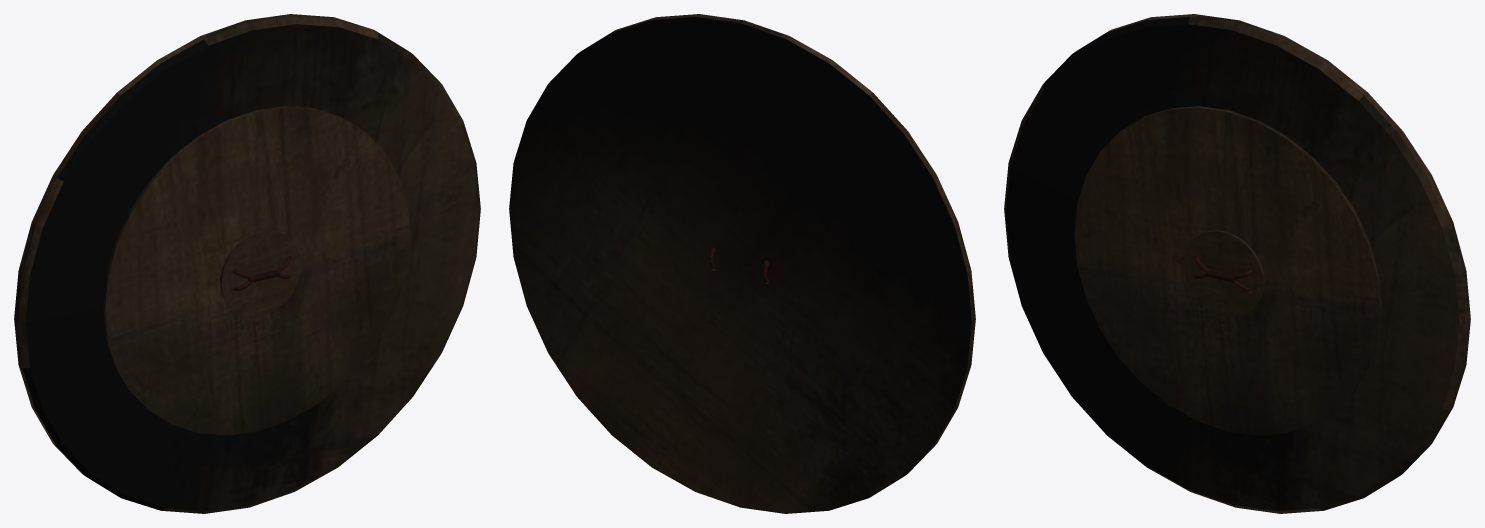
Rendered from tantar.glb.
The picture shows the model from 3 angles, left to right: view 1: azimuth 30°, elevation 25°; view 2: azimuth 150°, elevation 25°; view 3: azimuth 330°, elevation 25°; orthographic projection.
Parts seen in each view (by area): view 1: Cylinder; view 2: Cylinder; view 3: Cylinder.
Part boxes in pixels (<box>): Cylinder: <box>14,14,480,513</box>; Cylinder: <box>509,14,975,513</box>; Cylinder: <box>1004,14,1470,513</box>.
Size of the model in its own units: 1.97 by 1.97 by 0.1762.
Materials: 3 (1 with a texture image).
